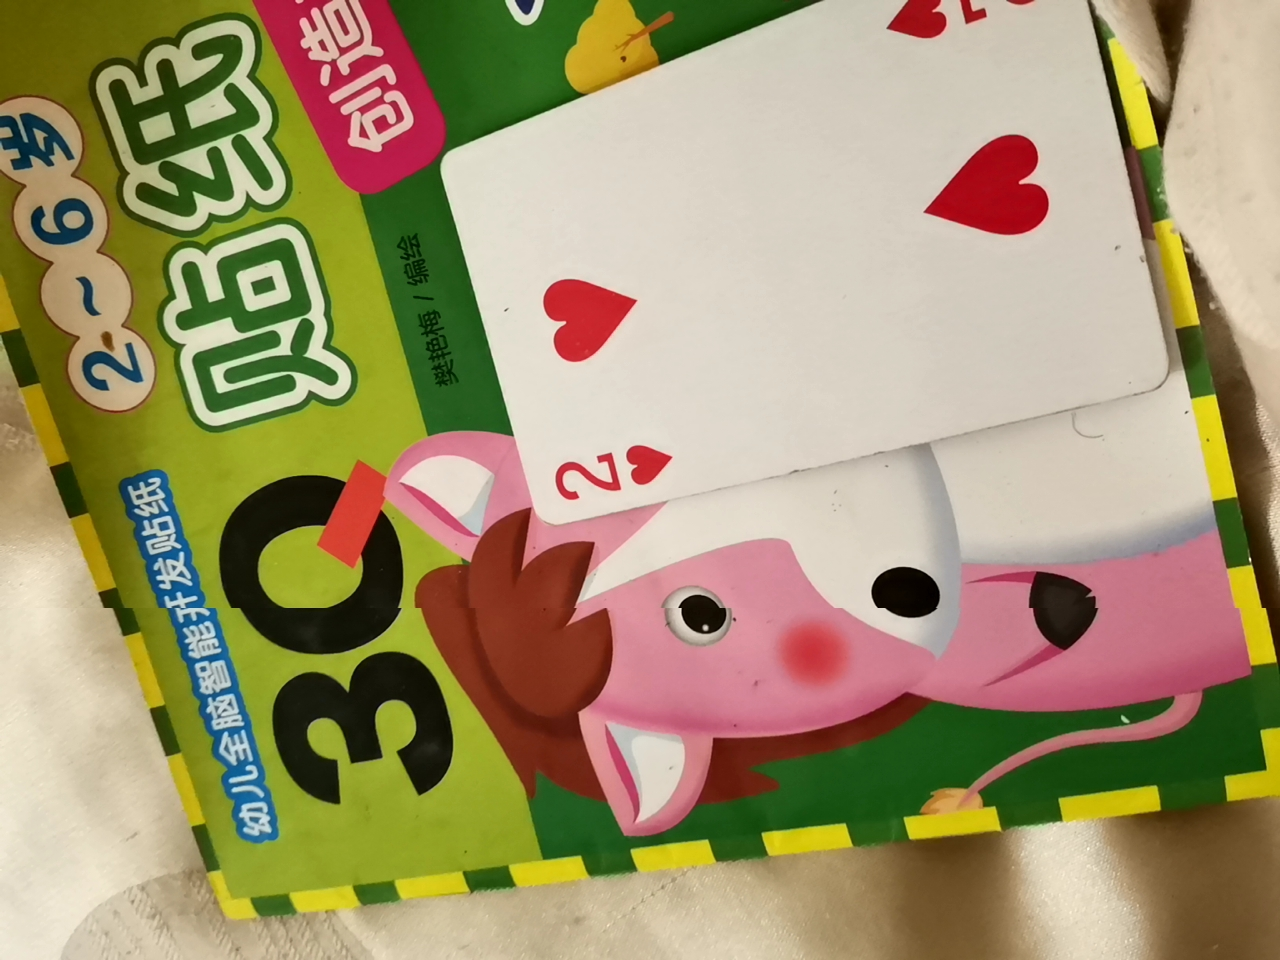hx 2: (424, 1, 1151, 546)
